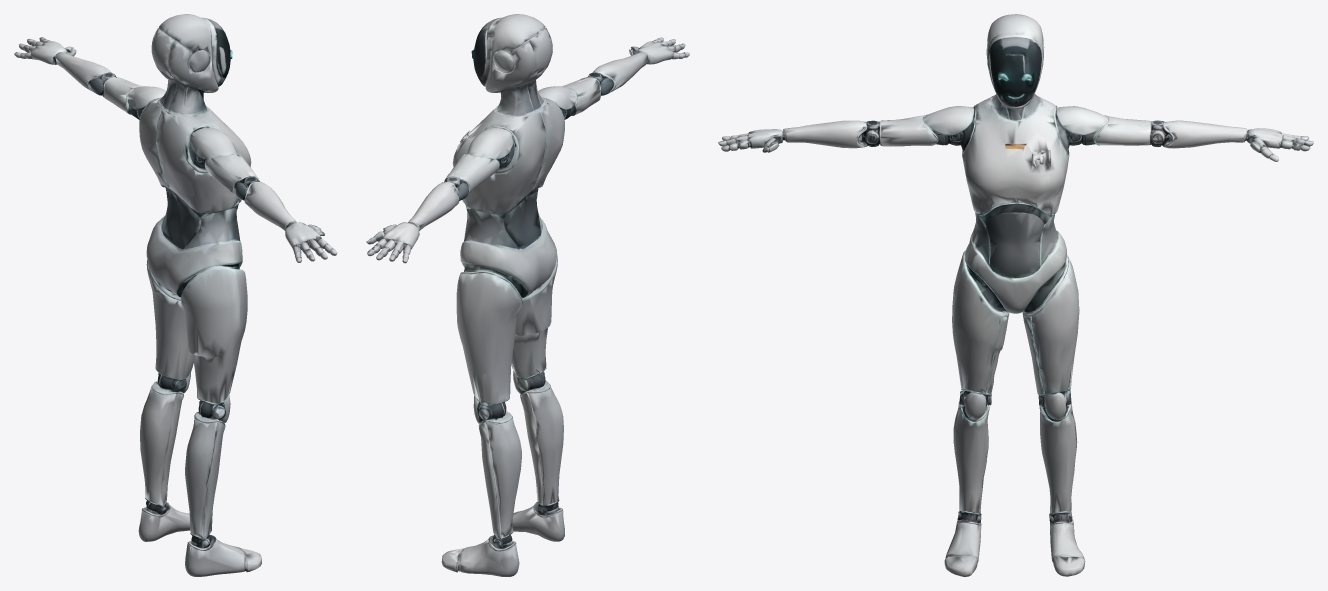
Rendered from the-robot.glb.
3 views of the same model, side by side, from view 1: azimuth 30°, elevation 25°; view 2: azimuth 150°, elevation 25°; view 3: azimuth 270°, elevation 25° (orthographic).
Visible parts, largest first — view 1: the-robot; view 2: the-robot; view 3: the-robot.
Boxes of the visible parts, x1,y1,x2,y2 form: the-robot: (14, 14, 337, 576); the-robot: (366, 14, 689, 576); the-robot: (718, 14, 1313, 576).
Size of the model in its own units: 0.1558 by 0.9752 by 0.9796.
1 material, 1 textured.
